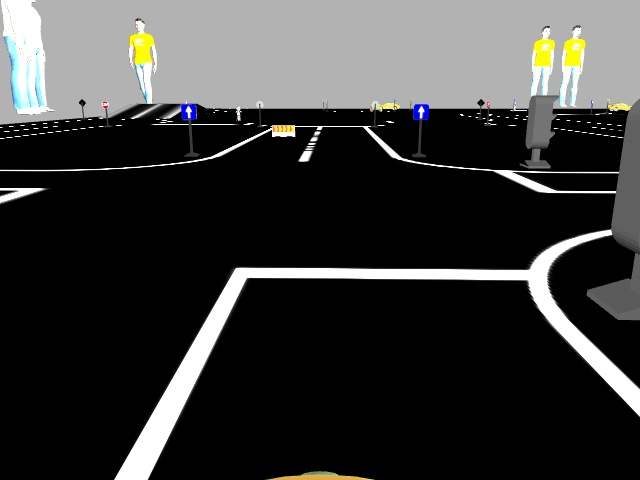ClosedRoadStand: (271, 125, 295, 137)
OneWay: (181, 104, 196, 120), (414, 104, 428, 120)
